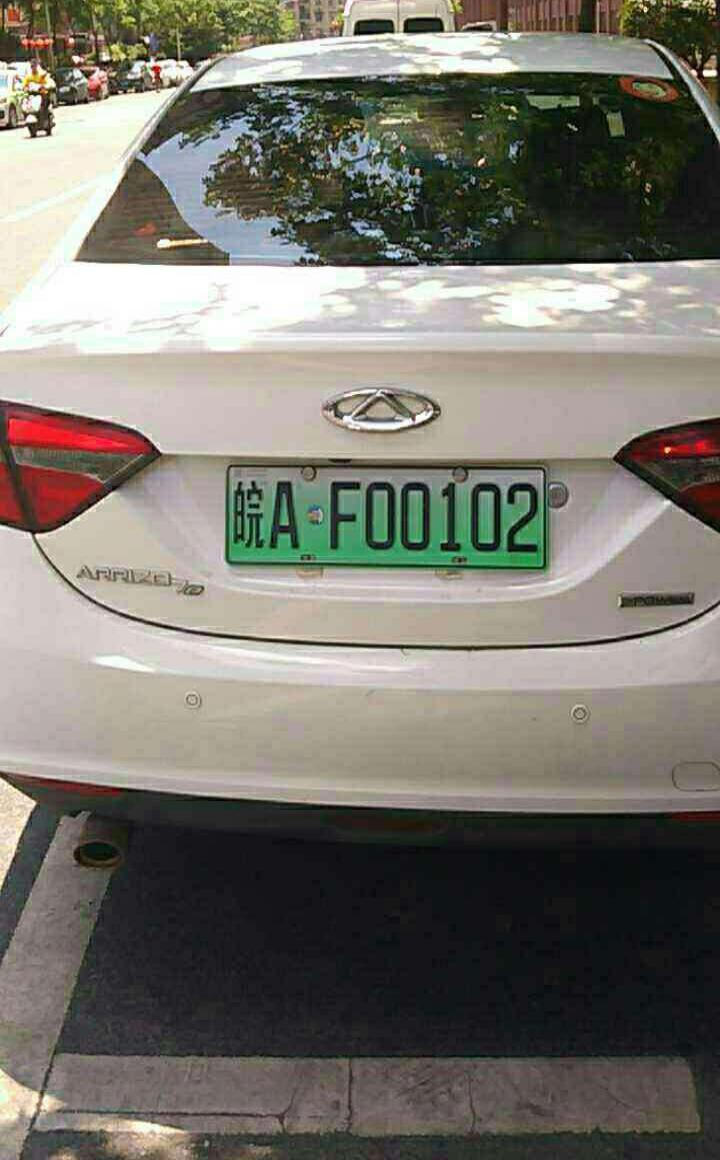car_id: (227, 462, 548, 569)
